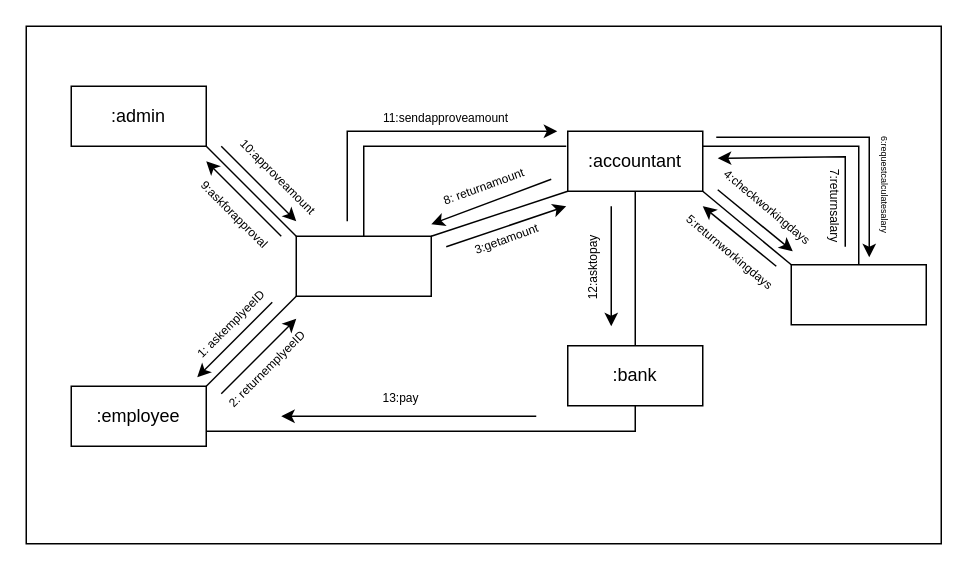
This 968x570 diagram has some shape labels left out. Each missing label, with the box of its shape:
:manager: (295, 235, 431, 296)
:server: (790, 263, 926, 325)
